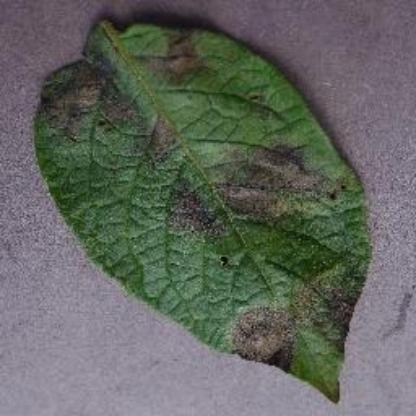Late-Blight: (32, 14, 374, 402)
